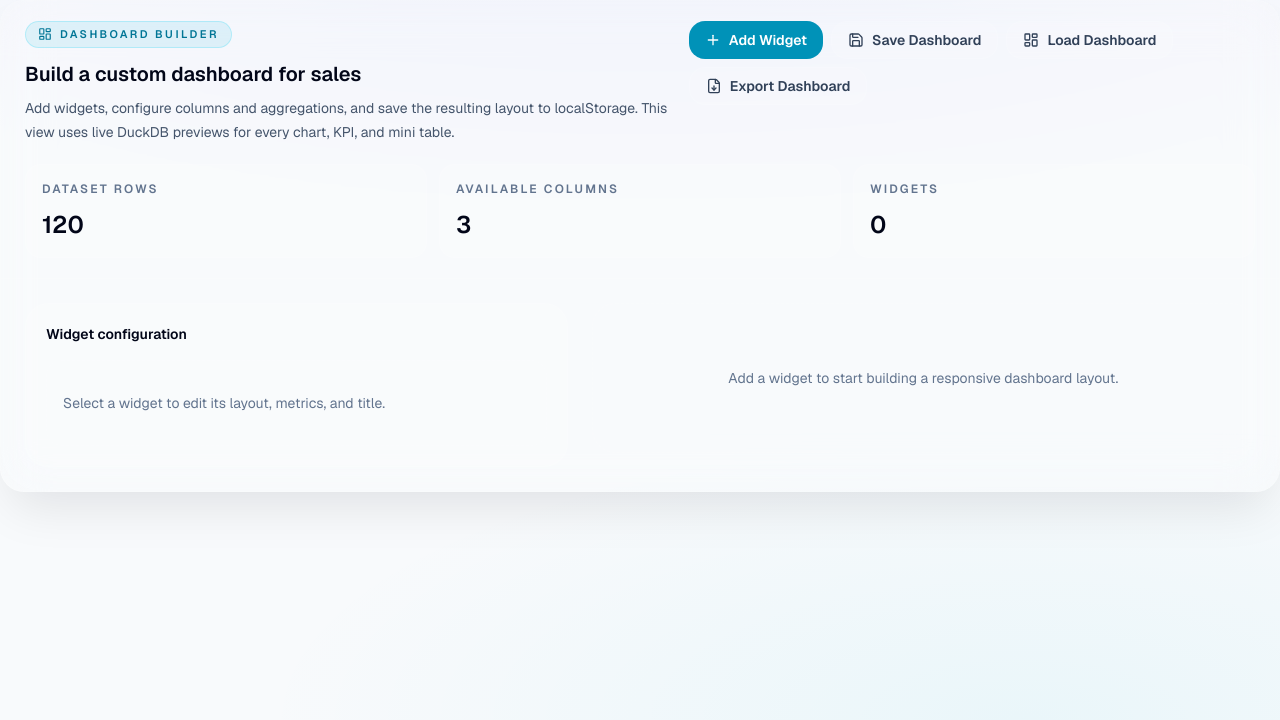
Test: DashboardBuilder › surfaces load failures when saved dashboard state is invalid
The image size is (1280, 720).
Click the button "Load Dashboard" at coordinates (1090, 40), box [1006,21,1173,59]
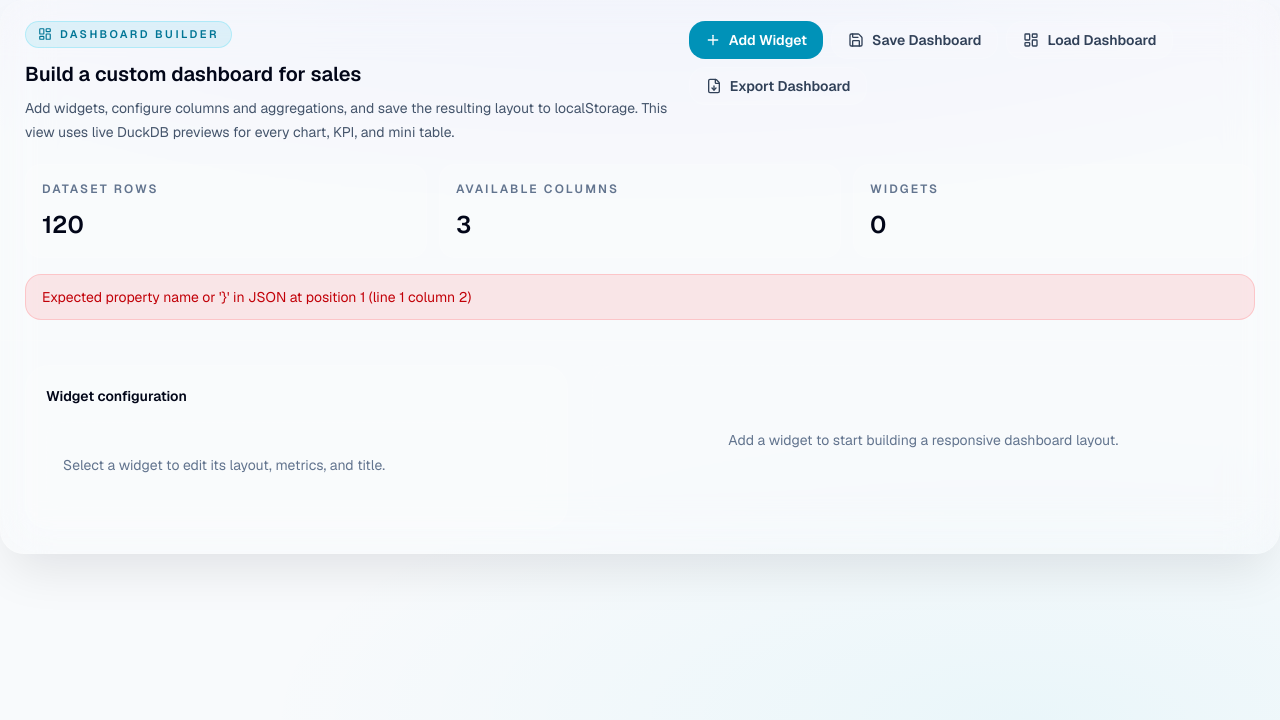
Check: the text "Expected property name" is shown, box [42,288,471,306]
